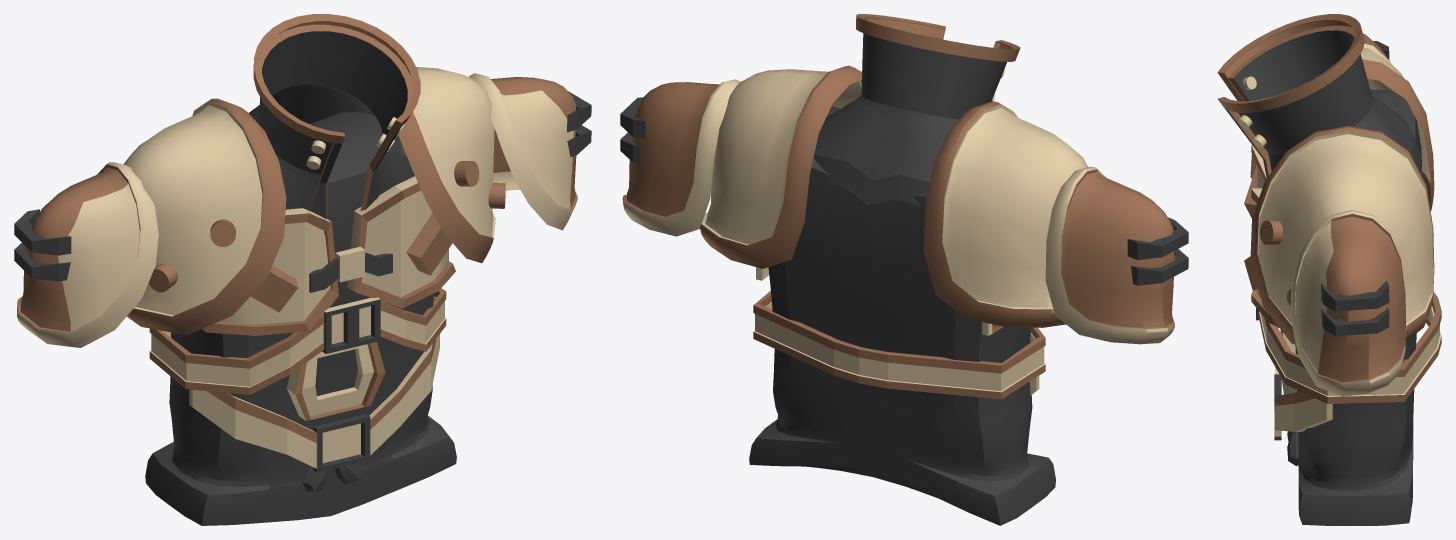
File: T2_Armor.fbx
The picture shows the model from 3 angles, left to right: view 1: azimuth 30°, elevation 25°; view 2: azimuth 150°, elevation 25°; view 3: azimuth 270°, elevation 25°; orthographic projection. The views are drawn at different scales.
Parts seen in each view (by area): view 1: Armor; view 2: Armor; view 3: Armor.
Boxes of the visible parts, <box> form: Armor: <box>14,14,591,525</box>; Armor: <box>620,14,1188,525</box>; Armor: <box>1217,14,1441,525</box>.
Size of the model in its own units: 1.88 by 0.6825 by 1.53.
